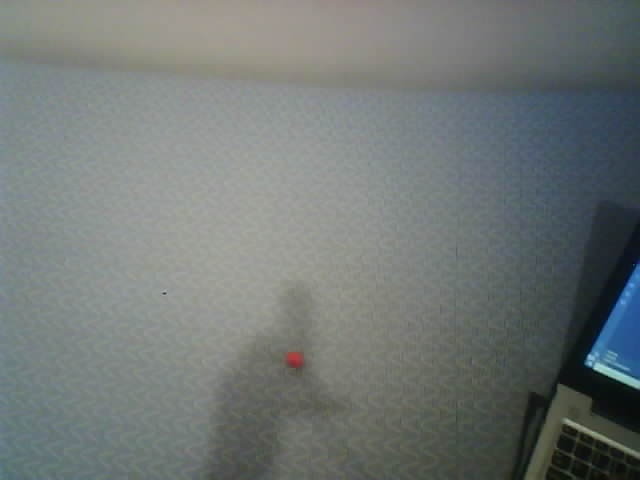lego: (285, 351, 305, 368)
